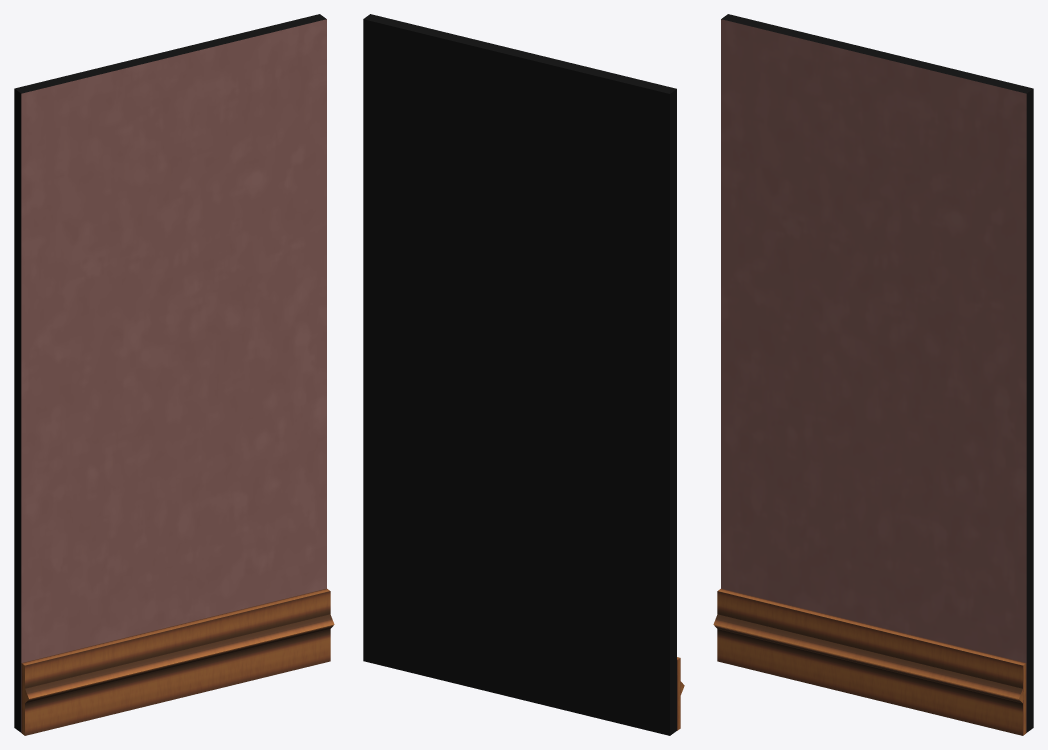
The model's file is Wall_A_2_5_03.FBX.
3 renders of one model, left to right at view 1: azimuth 30°, elevation 25°; view 2: azimuth 150°, elevation 25°; view 3: azimuth 330°, elevation 25°, orthographic.
Parts seen in each view (by area): view 1: Wall_Plain_2p5m001; view 2: Wall_Plain_2p5m001; view 3: Wall_Plain_2p5m001.
Boxes of the visible parts, x1=… form: Wall_Plain_2p5m001: x1=14, y1=14, x2=334, y2=735; Wall_Plain_2p5m001: x1=363, y1=14, x2=684, y2=735; Wall_Plain_2p5m001: x1=713, y1=14, x2=1033, y2=735.
Bounding box in the file's own units: 250 × 500 × 20.83.
